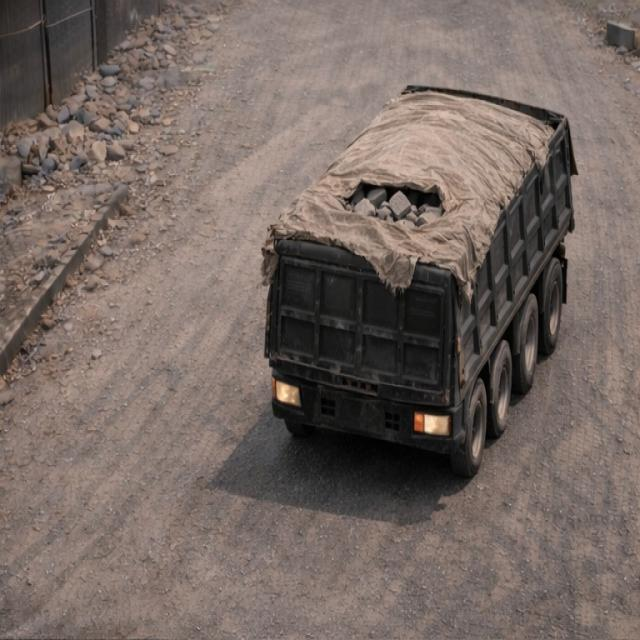trailer: (276, 86, 574, 262)
